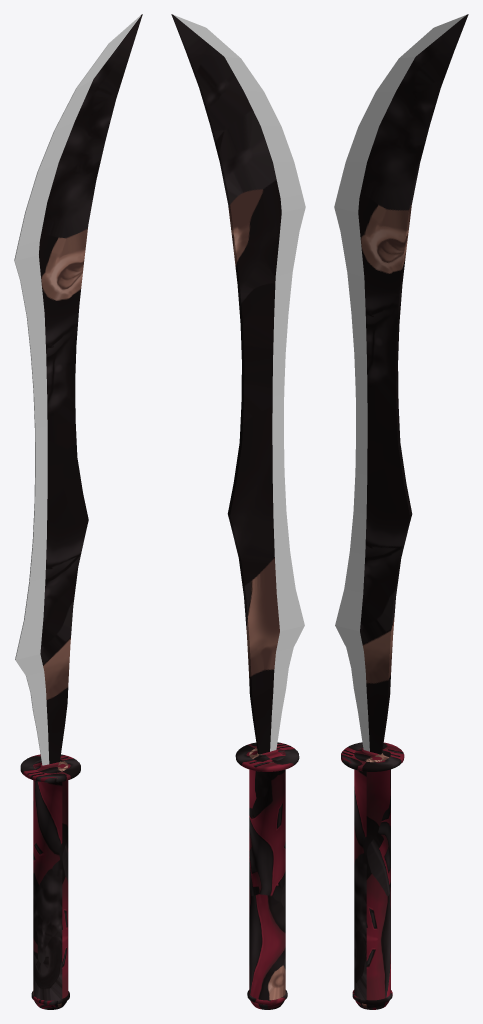
Rendered from sword-v3.fbx.
3 views of the same model, side by side, from view 1: azimuth 30°, elevation 25°; view 2: azimuth 210°, elevation 25°; view 3: azimuth 330°, elevation 25° (orthographic). The views are drawn at different scales.
Parts seen in each view (by area): view 1: BLADE; view 2: BLADE; view 3: BLADE.
Part boxes in pixels (left/top/right/bottom): BLADE: left=14, top=14, right=142, bottom=1009; BLADE: left=171, top=14, right=305, bottom=1009; BLADE: left=334, top=14, right=468, bottom=1009.
Size of the model in its own units: 59.84 by 433 by 24.57.
